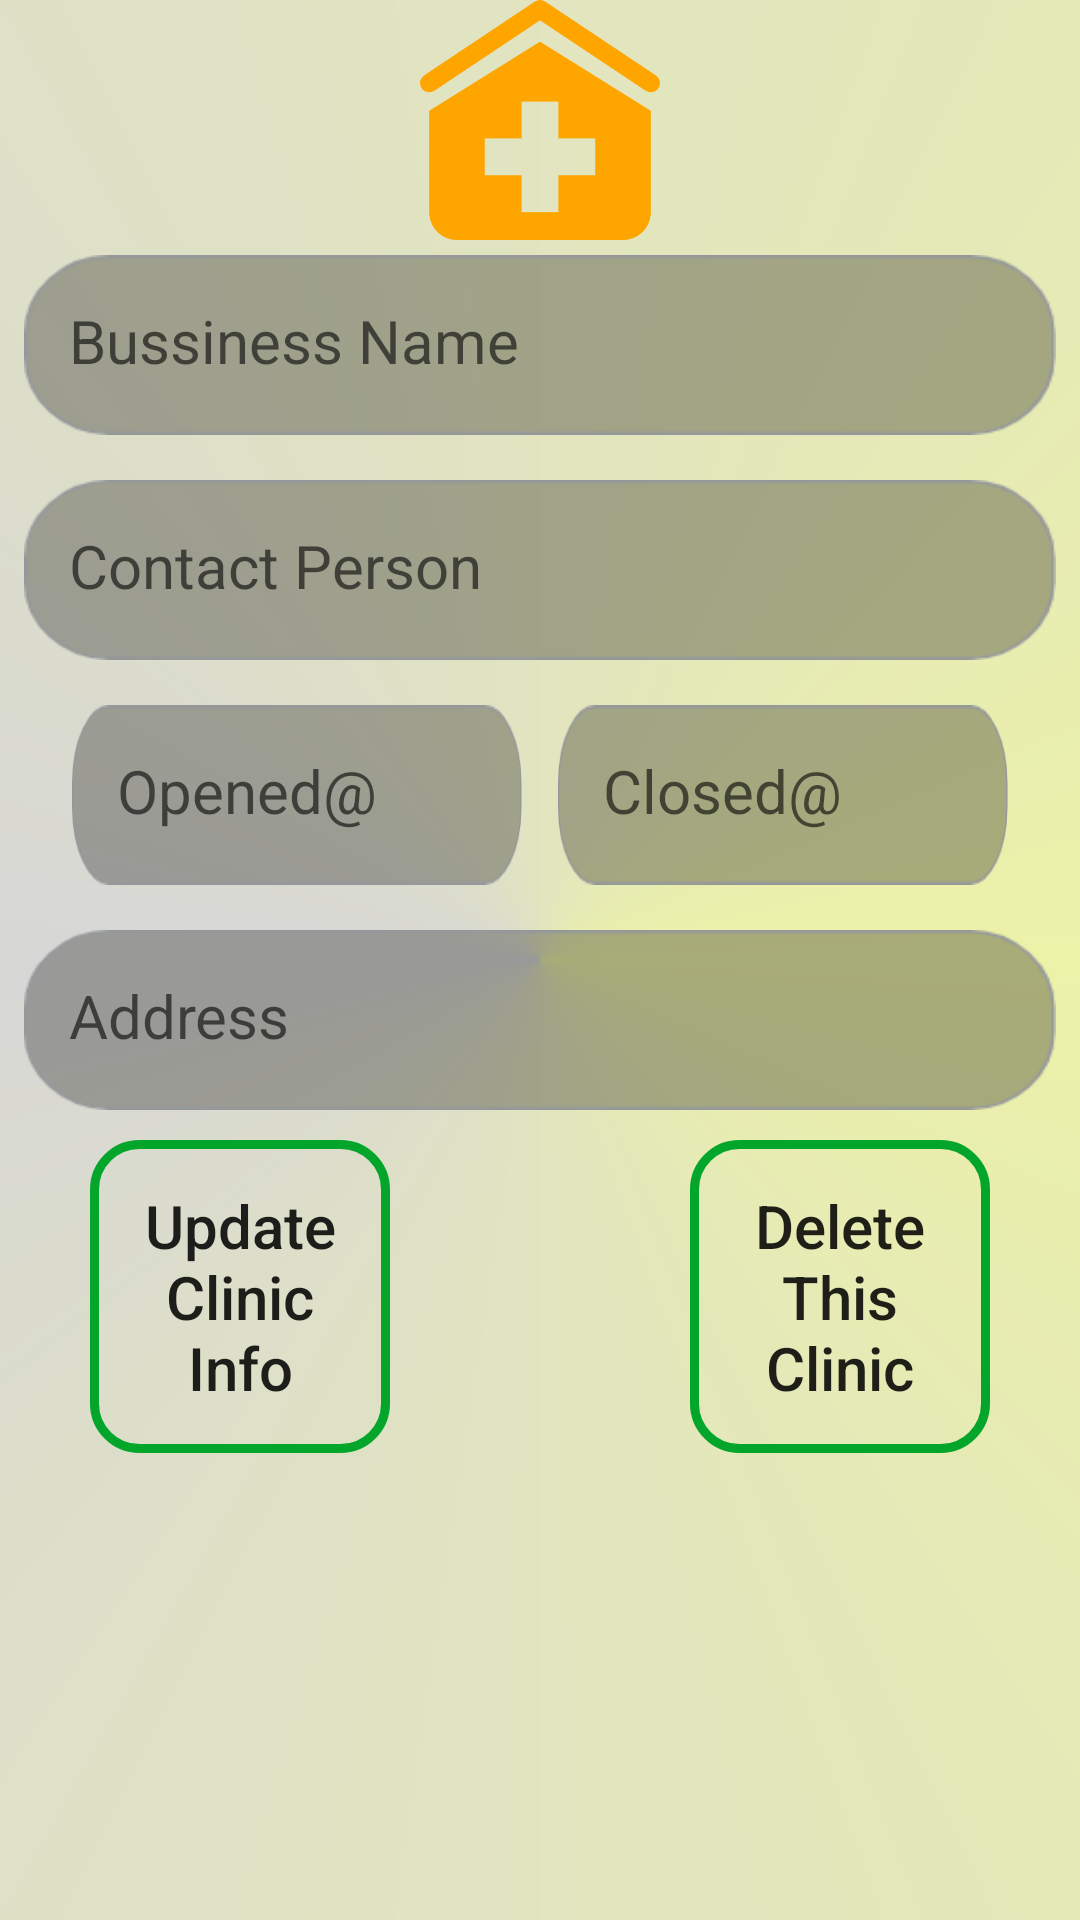

Icons on this 1080 × 1920 Android screen, each with the point to tap as point (x, y):
clinic: point (540, 120)
